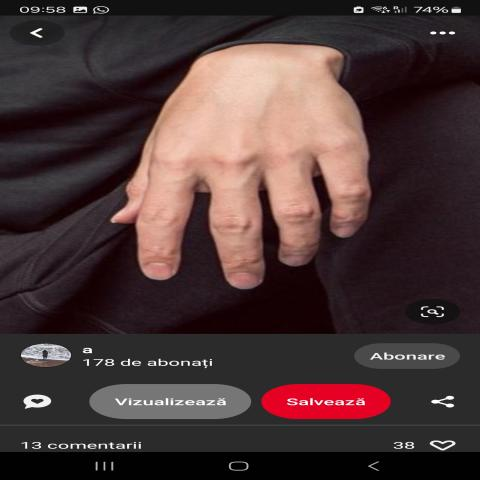hands: (107, 20, 406, 315)
